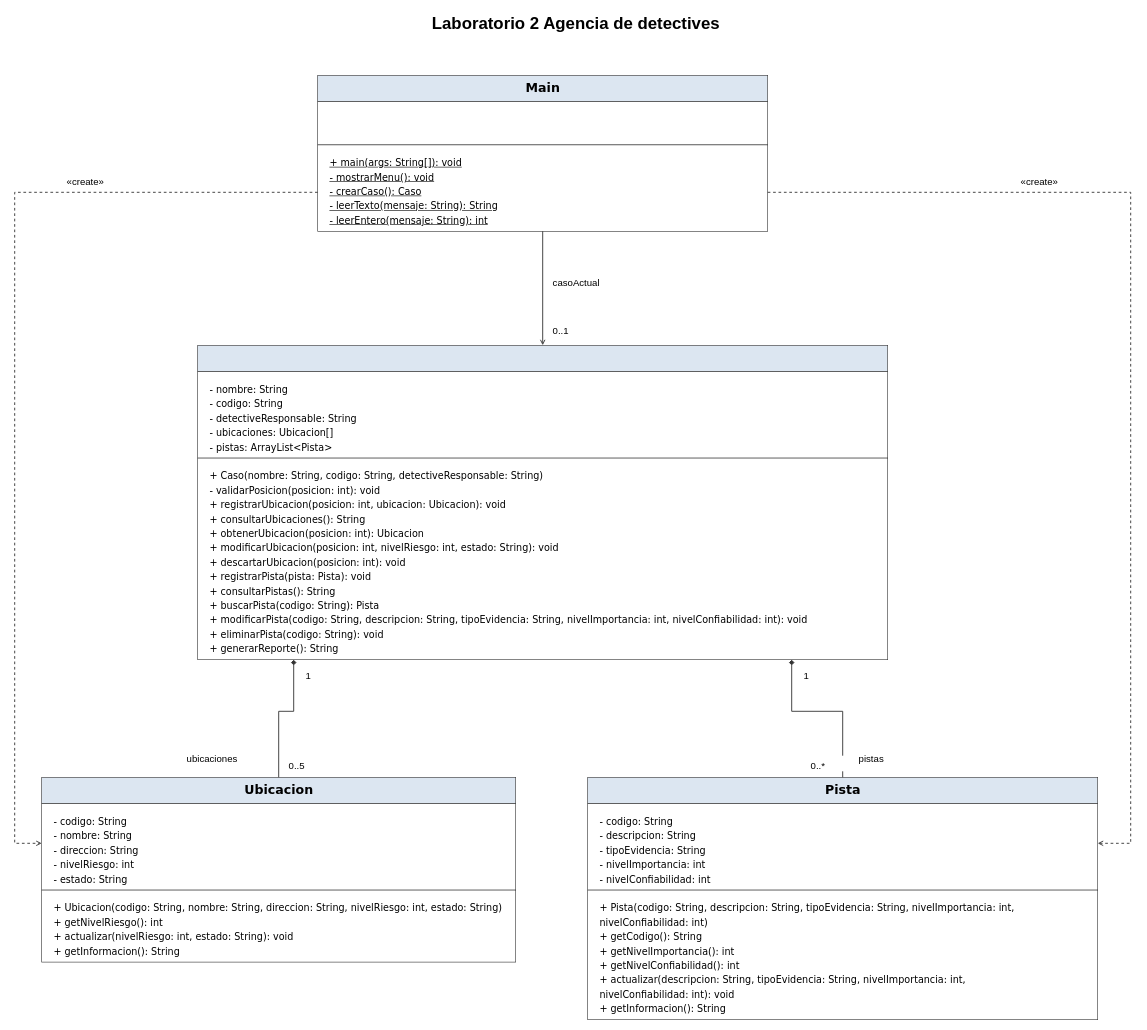
Image size: 1147x1030. Some labels were removed from this diagram. The shapes that lost their labels are listed below. From the top down, each one's centre as x and y in pixels, then its label:
At [542,123]: "- scanner: Scanner - casoActual: Caso".
At [542,358]: "Caso".
